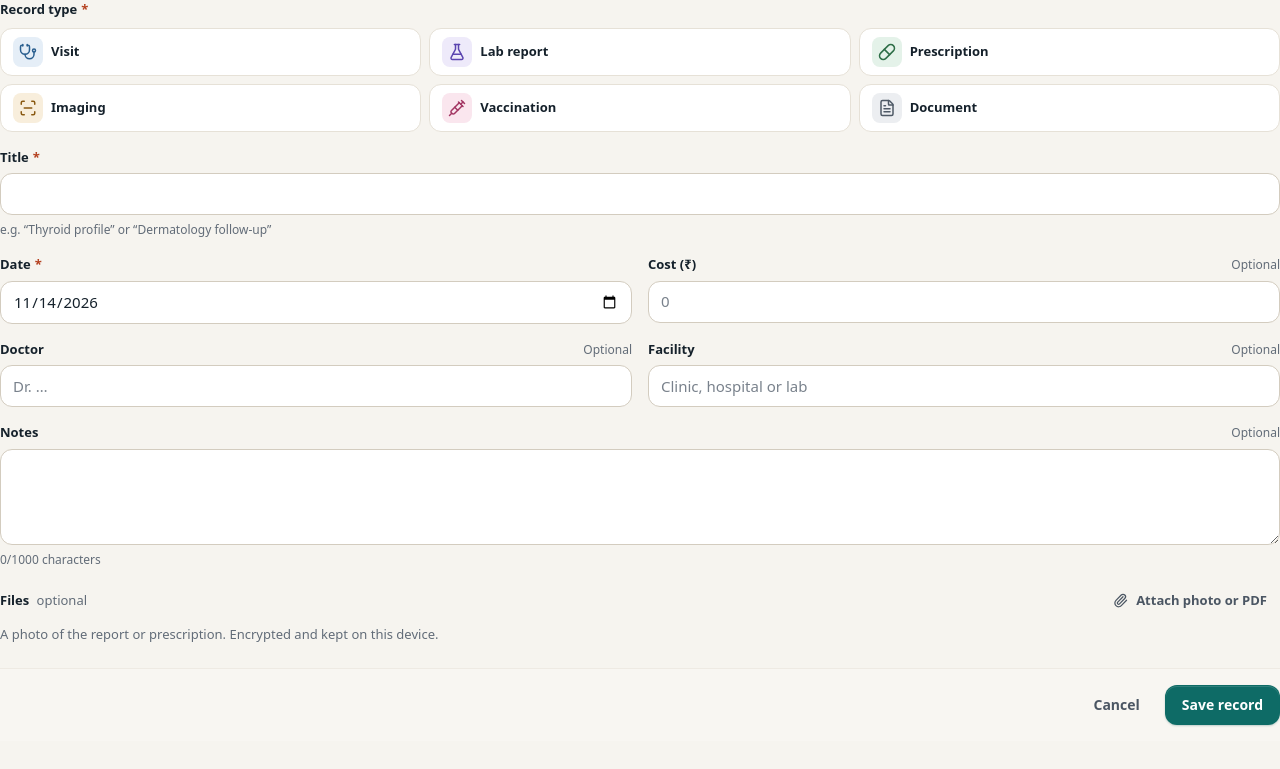
AddRecordForm › shows accessible errors and focuses the first invalid field when submitted empty
This screenshot has width=1280, height=769.
Click the button "Save record": (1222, 705) [1165,685,1279,725]
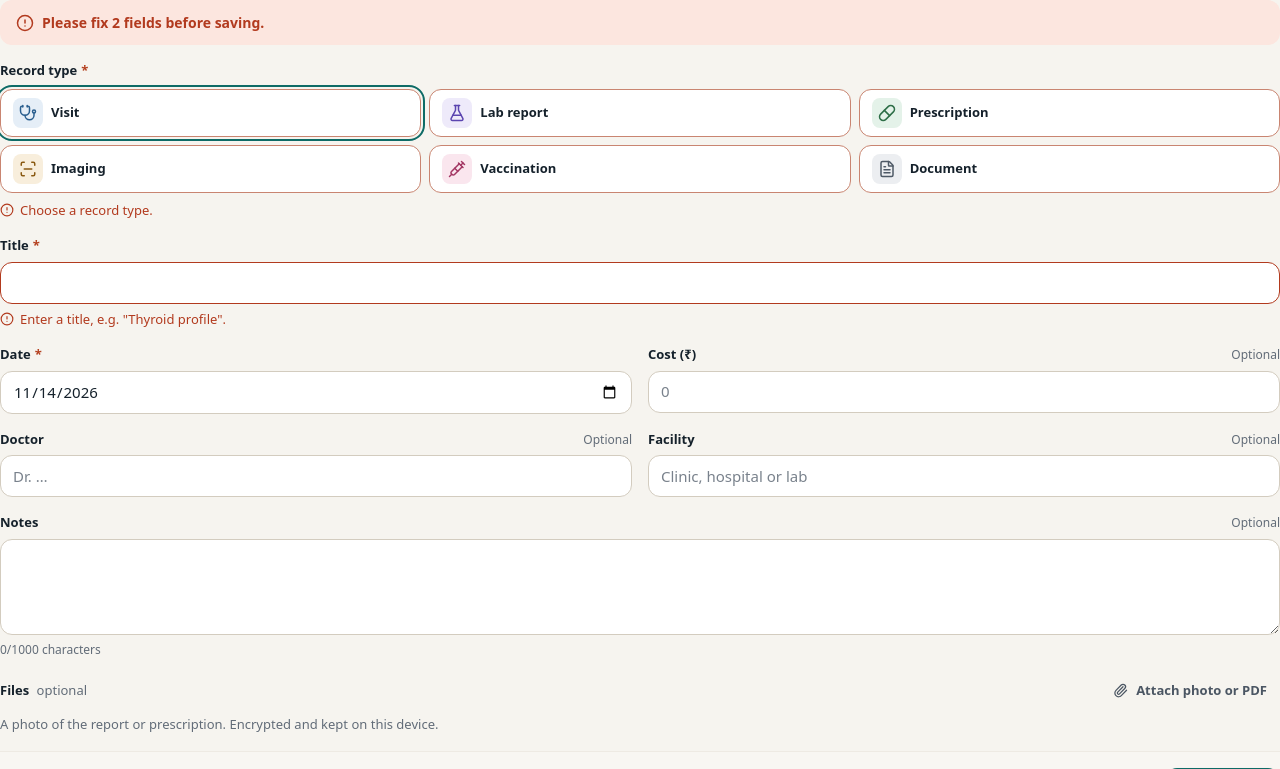
Check: the message reads "Please fix 2 fields before saving.", box [0,0,1279,45]
Check: the text "Choose a record type." is shown, box [0,200,153,218]
